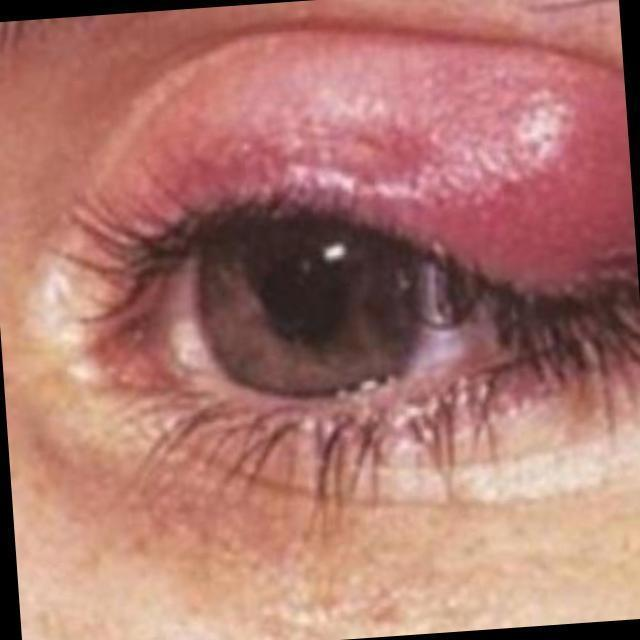Stye: (336, 36, 640, 337)
